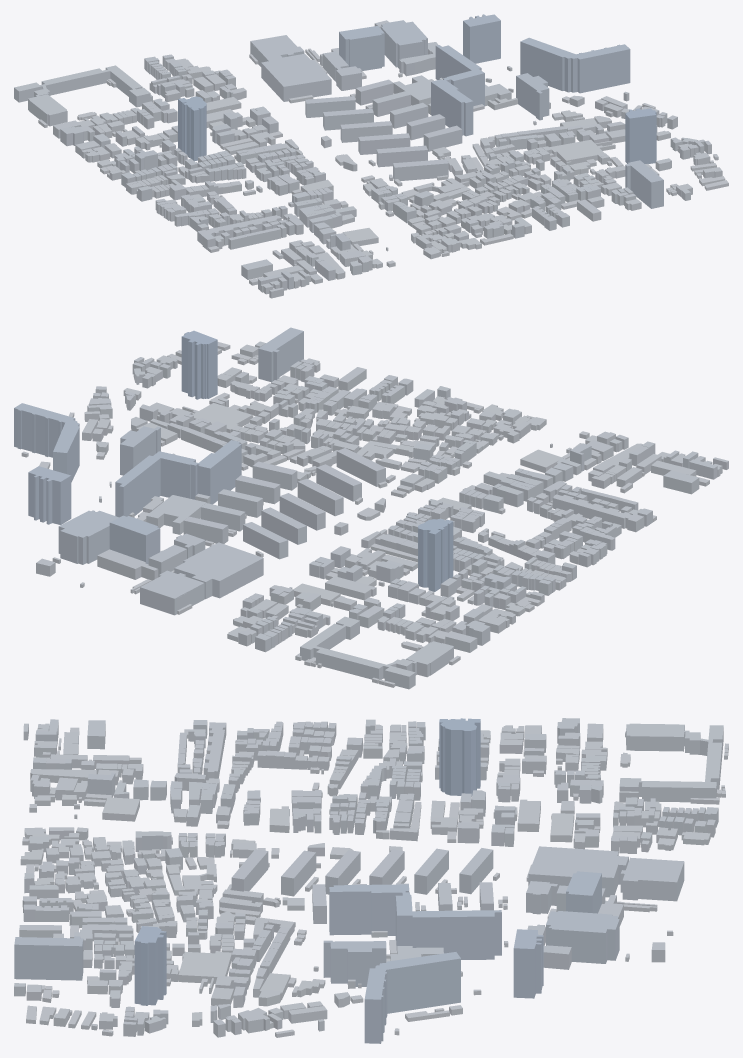
3 renders of one model, top to bottom at view 1: azimuth 30°, elevation 25°; view 2: azimuth 150°, elevation 25°; view 3: azimuth 270°, elevation 25°, orthographic. The views are drawn at different scales.
Bounding box in the file's own units: 516 × 50.71 × 499.
